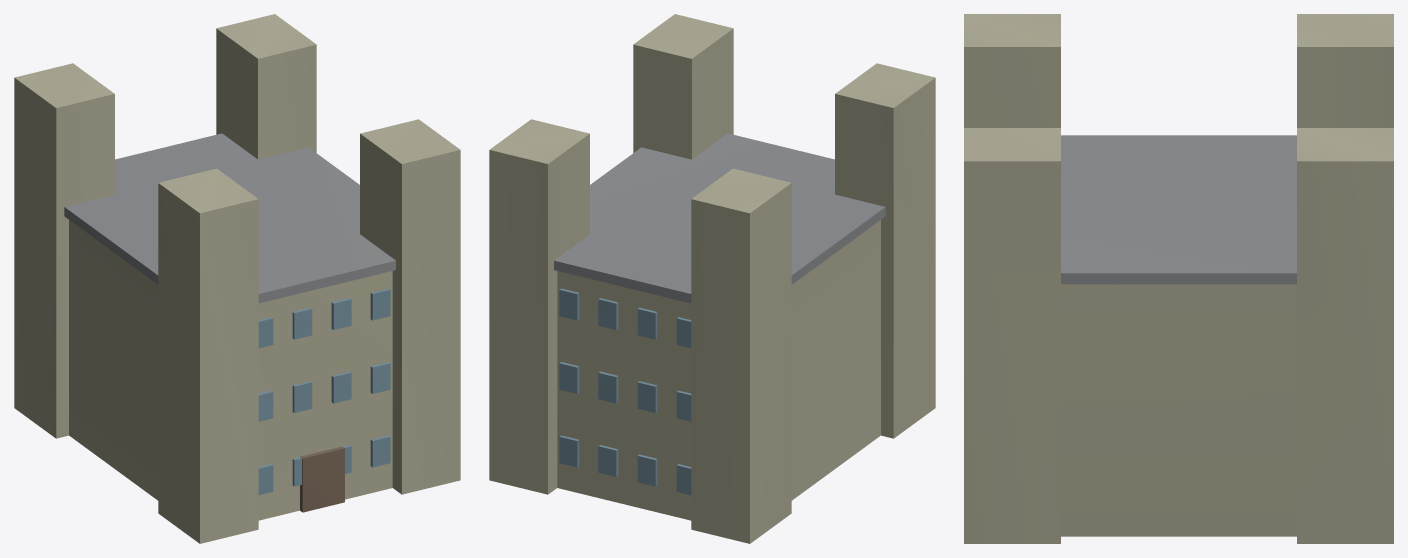
File: castle-02.glb
3 renders of one model, left to right at view 1: azimuth 30°, elevation 25°; view 2: azimuth 150°, elevation 25°; view 3: azimuth 270°, elevation 25°, orthographic. The views are drawn at different scales.
Visible parts, largest first — view 1: world; view 2: world; view 3: world.
Boxes of the visible parts, x1,y1,x2,y2 form: world: (14, 14, 460, 543); world: (489, 14, 935, 543); world: (964, 14, 1393, 543).
Size of the model in its own units: 2.02 by 2.45 by 2.49.
